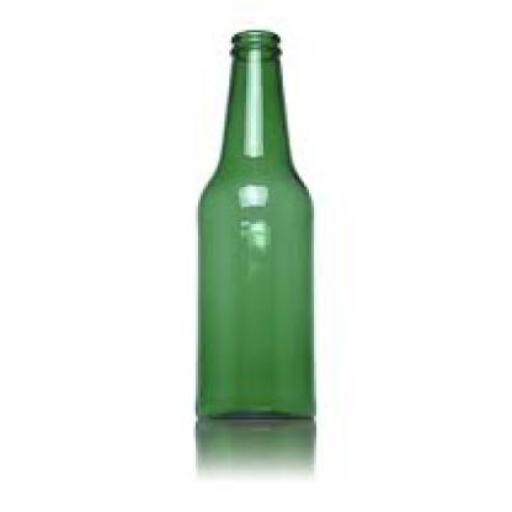glass: (196, 28, 314, 422)
